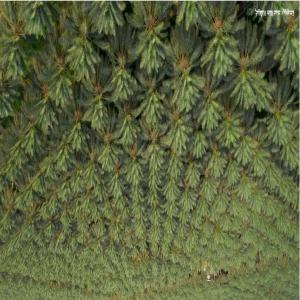palm tree: (0, 1, 299, 295)
